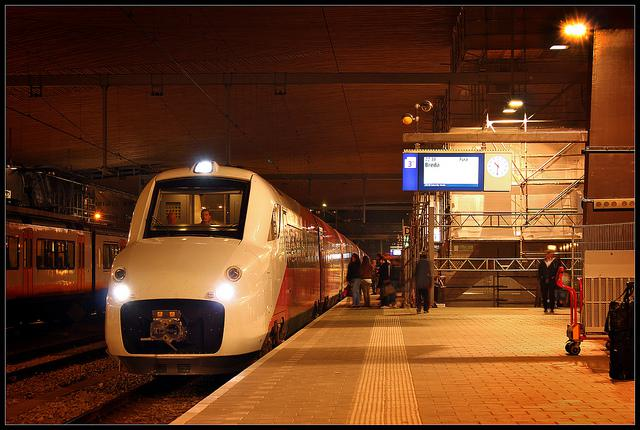Train: (104, 158, 369, 378), (0, 220, 128, 296)
